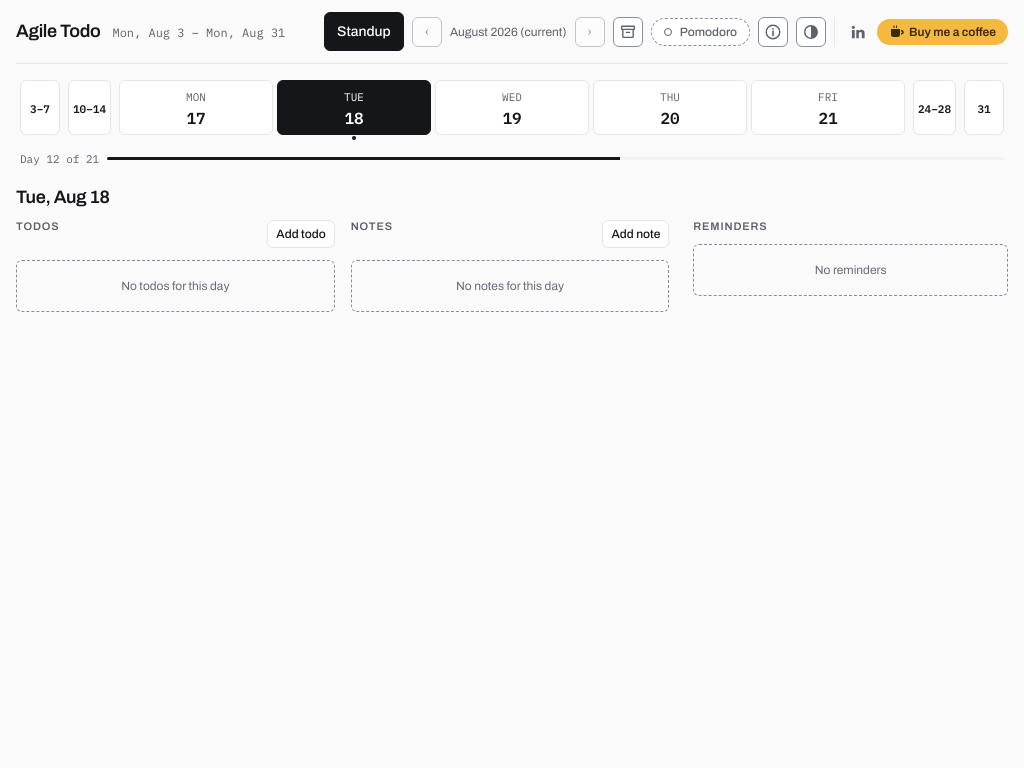
Test case: todos on the board › exposes disclosure state on Add todo and manages focus in and back out
Click the button "Add todo": {"x": 301, "y": 234} [267,220,335,248]
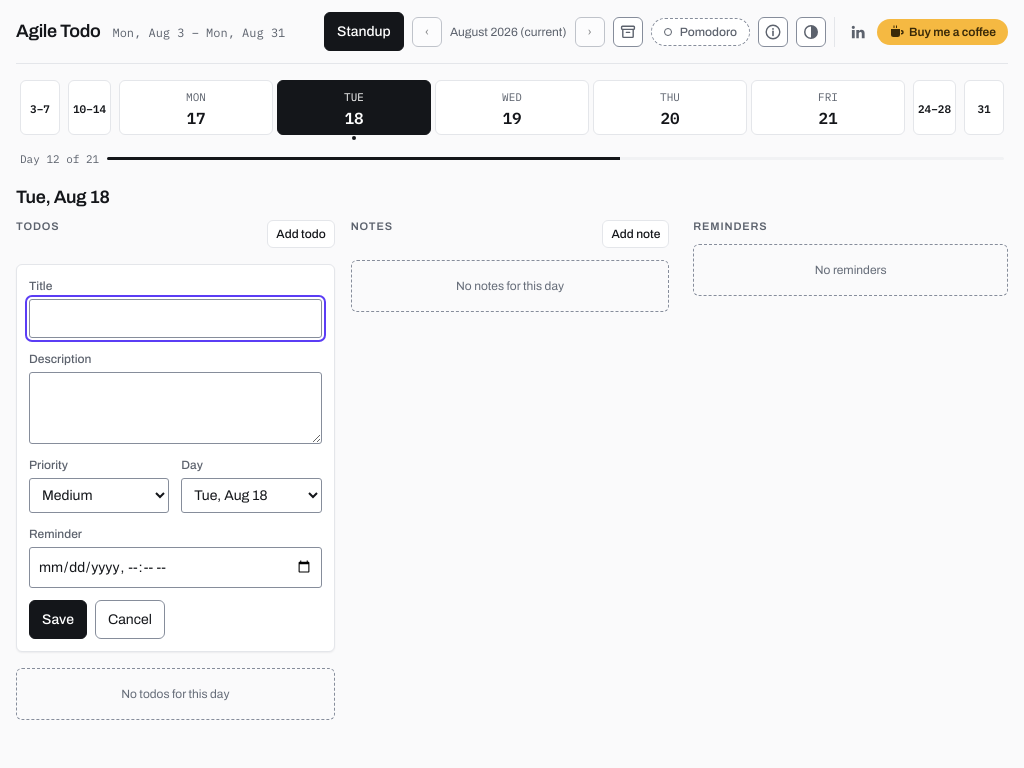
Click the button "Cancel": {"x": 130, "y": 619} [95,600,165,639]
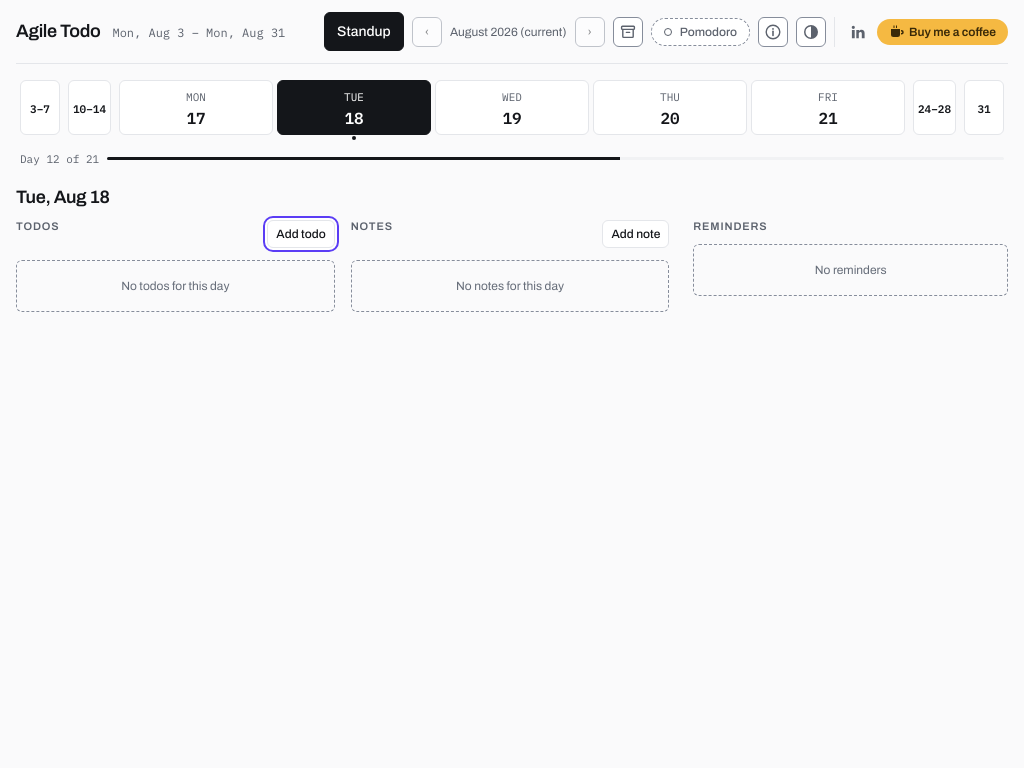
Check: the label labelled "Title" is gone
